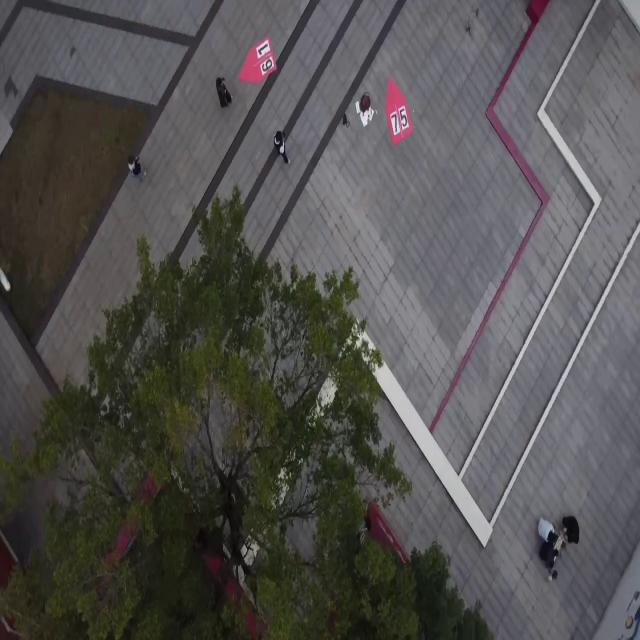-sign-: (383, 68, 416, 148), (238, 30, 282, 88)
